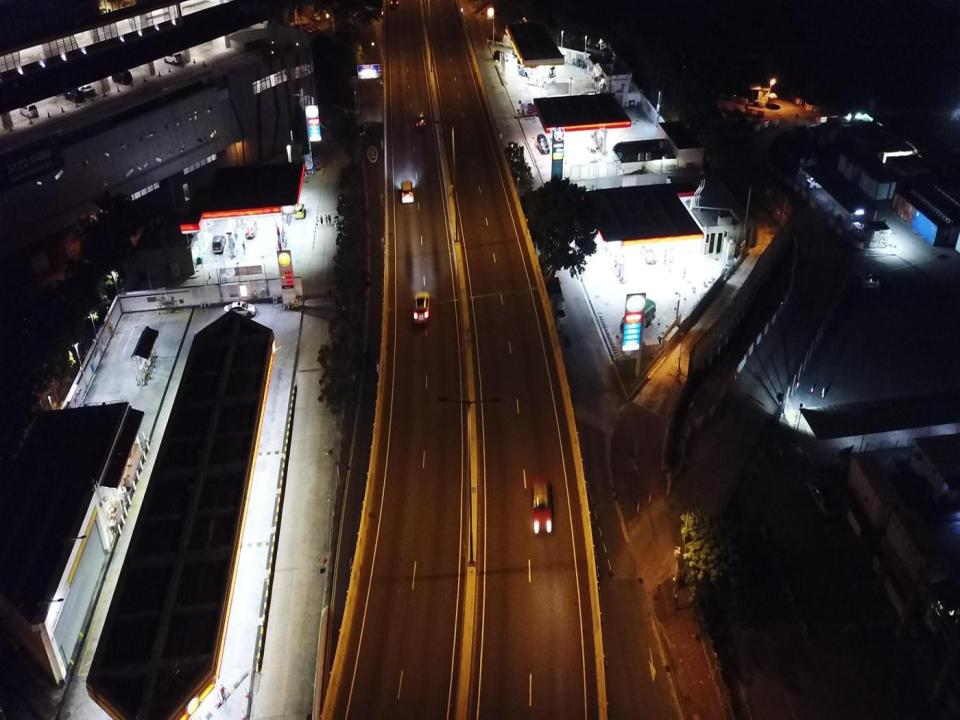bus: (516, 57, 557, 85)
car: (529, 472, 556, 536), (412, 292, 431, 323), (223, 301, 256, 318), (400, 178, 414, 204), (643, 242, 656, 264), (211, 234, 226, 253), (244, 219, 258, 238), (358, 120, 372, 139), (536, 134, 549, 154), (587, 142, 598, 162), (415, 110, 426, 128), (295, 202, 305, 219), (296, 21, 308, 31), (307, 25, 320, 34), (311, 14, 320, 21)
van: (619, 297, 656, 336)
